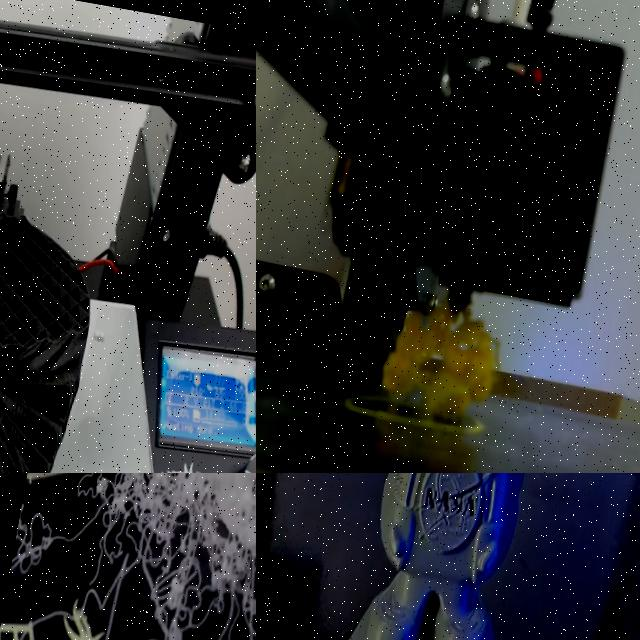spaghetti: (0, 473, 256, 640), (373, 296, 518, 436)
